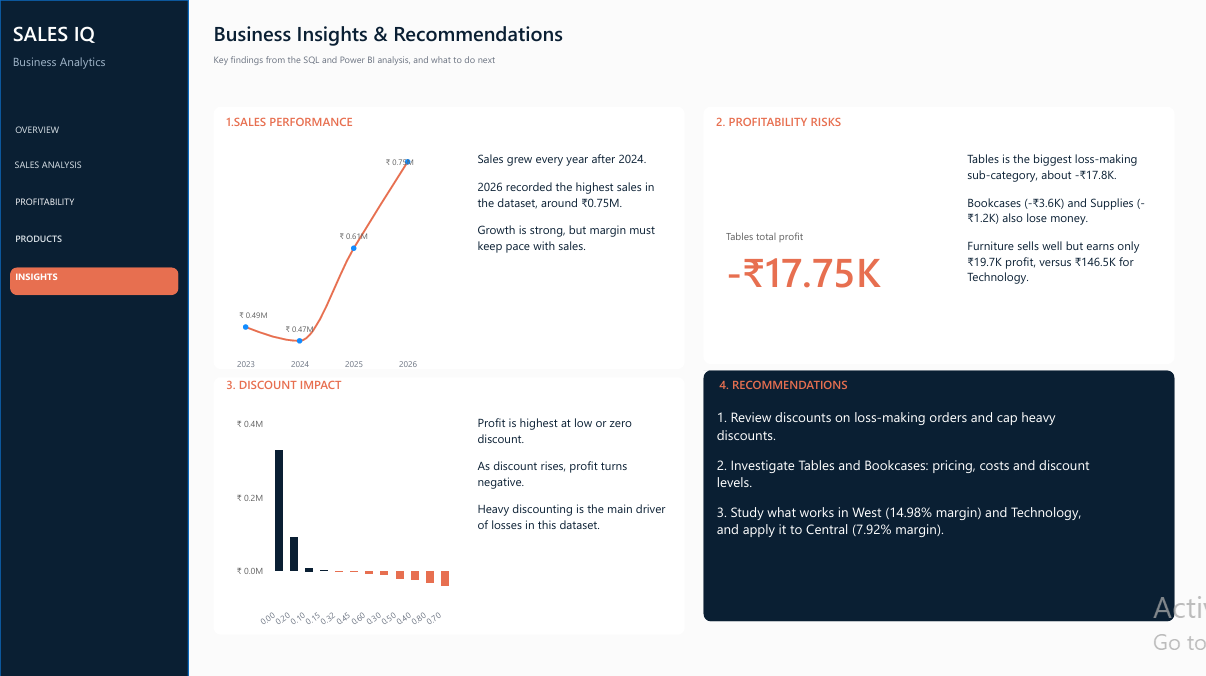

The dashboard page shown, as its layout file describes it:
{"tool":"powerbi","page":{"name":"Insights","canvas":[1920,1080],"ordinal":4},"visuals":[{"type":"shape","box":[340,600.9,750,410],"z":0},{"type":"shape","box":[1120,170,750,410],"z":1000},{"type":"shape","box":[340,170,750,418],"z":2000},{"type":"shape","title":"Panel 4 Recommendations","box":[1120,590,750,400],"z":3000},{"type":"shape","box":[0,0,300,1080],"z":4000},{"type":"shape","box":[16.3,426,268,44],"z":5000},{"type":"cardVisual","fields":{"Data":["sales_analytics orders.Tables total profit"]},"box":[1140,230,320,380],"z":6000},{"type":"lineChart","fields":{"Category":["sales_analytics orders.Order_Date.Variation.Date Hierarchy.Year"],"Y":["Sum(sales_analytics orders.Sales)"]},"box":[360,230,320,380],"z":7000},{"type":"clusteredColumnChart","fields":{"Category":["sales_analytics orders.Discount"],"Y":["Sum(sales_analytics orders.Profit)"]},"box":[360,650,380,380],"z":8000},{"type":"textbox","box":[23.4,250.9,241.5,39.9],"z":9000},{"type":"textbox","box":[20,30,260,60],"z":10000},{"type":"textbox","box":[20,85,240,40],"z":11000},{"type":"textbox","box":[24,310,240,40],"z":12000},{"type":"textbox","box":[24,370,240,40],"z":13000},{"type":"textbox","box":[24,196,218.6,48.8],"z":14000},{"type":"textbox","box":[24,430,240,40],"z":15000},{"type":"textbox","box":[340,30,900,60],"z":16000},{"type":"textbox","box":[340,85,900,36],"z":17000},{"type":"textbox","box":[360,180,700,40],"z":18000},{"type":"textbox","box":[760,240,300,310],"z":19000},{"type":"textbox","box":[1140,180,700,40],"z":20000},{"type":"textbox","box":[1540,240,300,310],"z":21000},{"type":"textbox","box":[360,600,700,40],"z":22000},{"type":"textbox","box":[760,660,300,310],"z":23000},{"type":"textbox","box":[1140,600,700,40],"z":24000},{"type":"textbox","box":[1141,650,598,239.8],"z":25000},{"type":"actionButton","box":[16,186,268,44],"z":26000},{"type":"actionButton","box":[16,246,268,44],"z":27000},{"type":"actionButton","box":[16,306,268,44],"z":28000},{"type":"actionButton","box":[16,366,268,44],"z":29000}]}

Visuals, with their boxes on the page's 1920x1080 design canvas (x1, y1, x2, y2). These are canvas units, not pixel positions in the 1206x676 screenshot, which may show the page scaled, cropped or inside an application window:
shape: left=340, top=601, right=1090, bottom=1011
shape: left=1120, top=170, right=1870, bottom=580
shape: left=340, top=170, right=1090, bottom=588
"Panel 4 Recommendations" shape: left=1120, top=590, right=1870, bottom=990
shape: left=0, top=0, right=300, bottom=1080
shape: left=16, top=426, right=284, bottom=470
cardVisual - sales_analytics orders.Tables total profit: left=1140, top=230, right=1460, bottom=610
lineChart - sales_analytics orders.Order_Date.Variation.Date Hierarchy.Year x Sum(sales_analytics orders.Sales): left=360, top=230, right=680, bottom=610
clusteredColumnChart - sales_analytics orders.Discount x Sum(sales_analytics orders.Profit): left=360, top=650, right=740, bottom=1030
textbox: left=23, top=251, right=265, bottom=291
textbox: left=20, top=30, right=280, bottom=90
textbox: left=20, top=85, right=260, bottom=125
textbox: left=24, top=310, right=264, bottom=350
textbox: left=24, top=370, right=264, bottom=410
textbox: left=24, top=196, right=243, bottom=245
textbox: left=24, top=430, right=264, bottom=470
textbox: left=340, top=30, right=1240, bottom=90
textbox: left=340, top=85, right=1240, bottom=121
textbox: left=360, top=180, right=1060, bottom=220
textbox: left=760, top=240, right=1060, bottom=550
textbox: left=1140, top=180, right=1840, bottom=220
textbox: left=1540, top=240, right=1840, bottom=550
textbox: left=360, top=600, right=1060, bottom=640
textbox: left=760, top=660, right=1060, bottom=970
textbox: left=1140, top=600, right=1840, bottom=640
textbox: left=1141, top=650, right=1739, bottom=890
actionButton: left=16, top=186, right=284, bottom=230
actionButton: left=16, top=246, right=284, bottom=290
actionButton: left=16, top=306, right=284, bottom=350
actionButton: left=16, top=366, right=284, bottom=410
